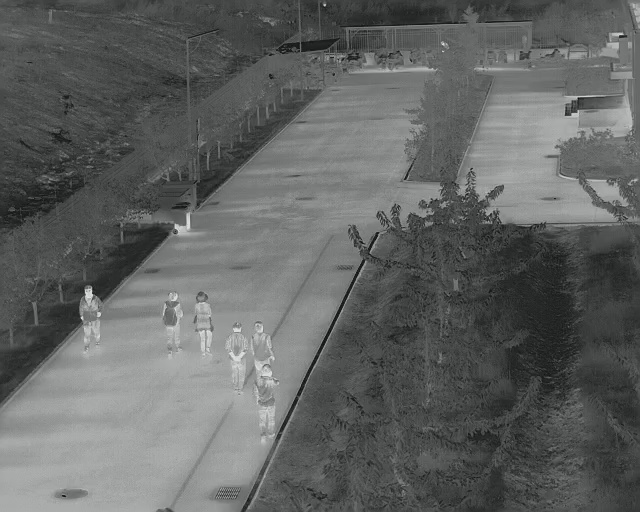person: (251, 364, 281, 443), (77, 283, 103, 354), (192, 290, 216, 359), (224, 320, 247, 392), (162, 290, 183, 358), (251, 320, 278, 368)
